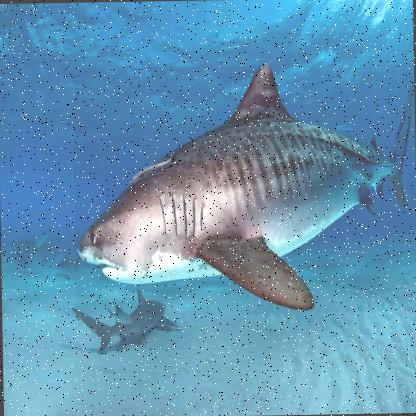tiger-shark: (70, 62, 415, 318)
